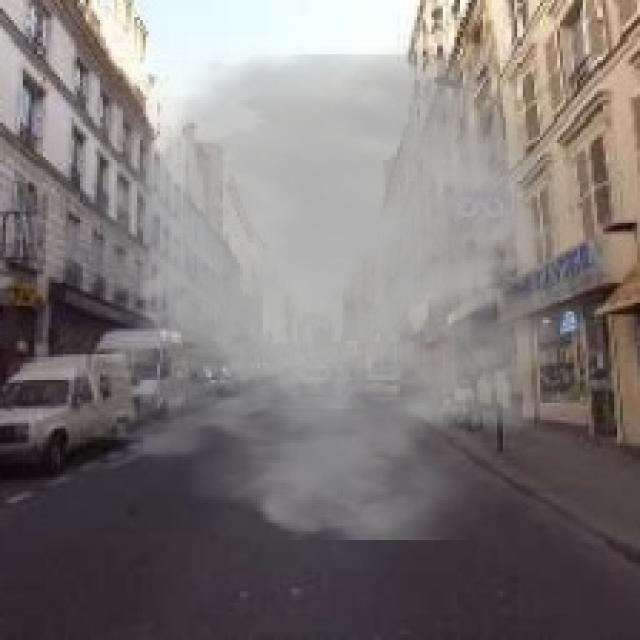Smoke: (37, 23, 603, 540)
